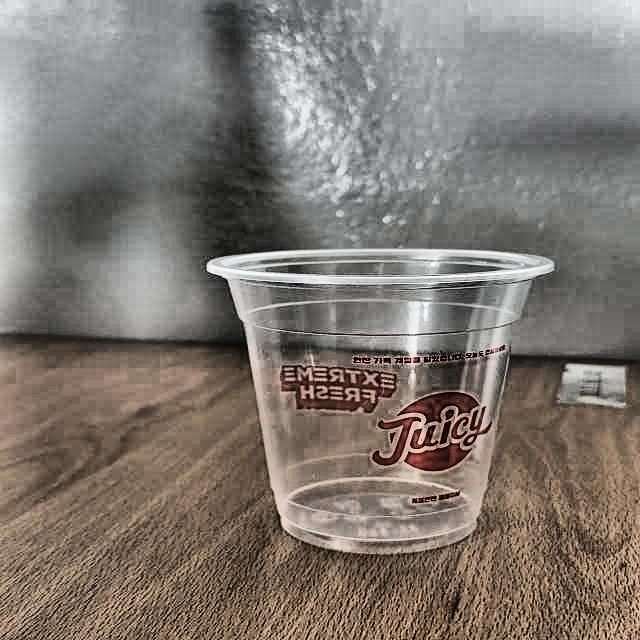plastic cup: (206, 248, 559, 555)
